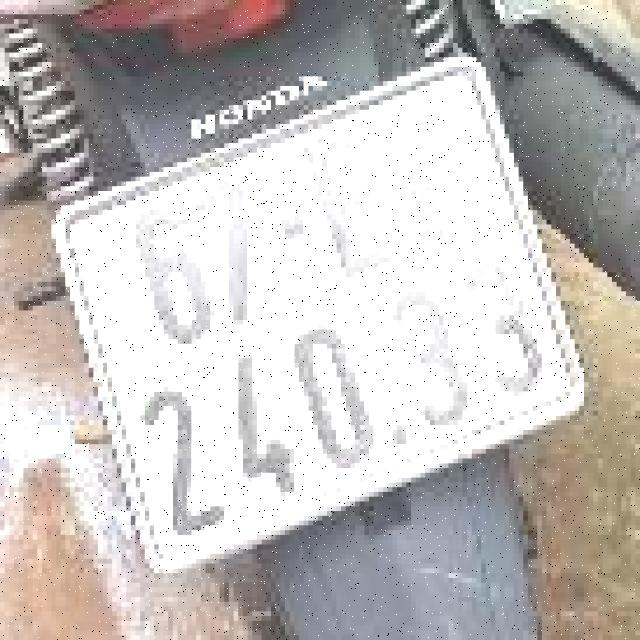0: (272, 303, 392, 494)
1: (355, 98, 473, 271)
2: (120, 373, 245, 555)
3: (433, 235, 568, 416), (373, 265, 495, 448)
4: (203, 337, 319, 533)
6: (113, 193, 227, 377)
7: (179, 162, 286, 349)
E: (283, 117, 414, 304)
